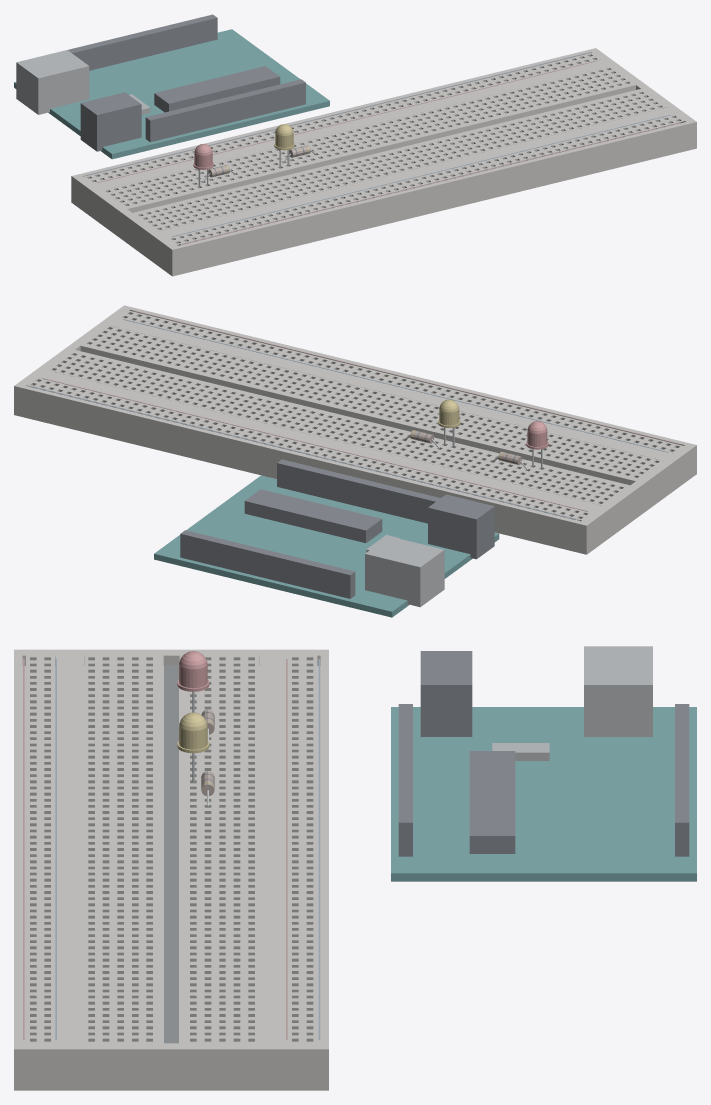
Rendered from step-6.glb.
The picture shows the model from 3 angles, top to bottom: view 1: azimuth 30°, elevation 25°; view 2: azimuth 150°, elevation 25°; view 3: azimuth 270°, elevation 25°; orthographic projection. The views are drawn at different scales.
Visible parts, largest first — view 1: breadboard__mesh, uno__mesh, led_yellow__mesh, led_red__mesh; view 2: breadboard__mesh, uno__mesh, led_yellow__mesh, led_red__mesh; view 3: breadboard__mesh, uno__mesh, led_yellow__mesh, led_red__mesh.
Part boxes in pixels (x1,y1,x2,y2): breadboard__mesh: (71, 48, 696, 276); uno__mesh: (14, 14, 329, 159); led_yellow__mesh: (274, 124, 294, 167); led_red__mesh: (193, 144, 213, 187); breadboard__mesh: (14, 305, 696, 554); uno__mesh: (154, 459, 499, 617); led_yellow__mesh: (438, 399, 460, 447); led_red__mesh: (526, 421, 548, 468); breadboard__mesh: (14, 649, 328, 1090); uno__mesh: (391, 646, 696, 881); led_yellow__mesh: (177, 712, 209, 782); led_red__mesh: (177, 651, 209, 712).
Size of the model in its own units: 0.165 by 0.0205 by 0.1192.
